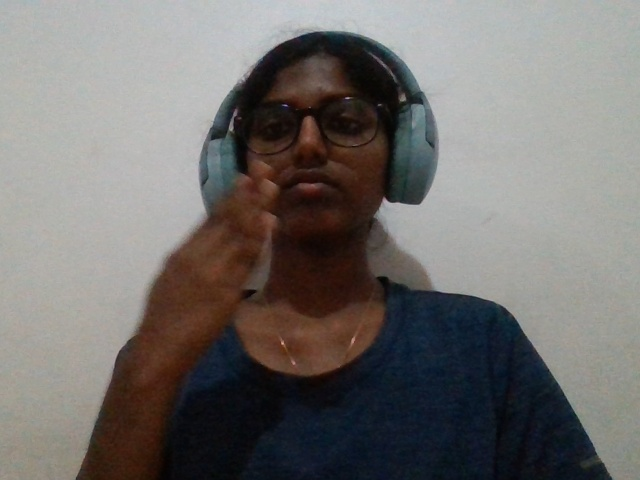Thanks: (112, 154, 304, 392)
